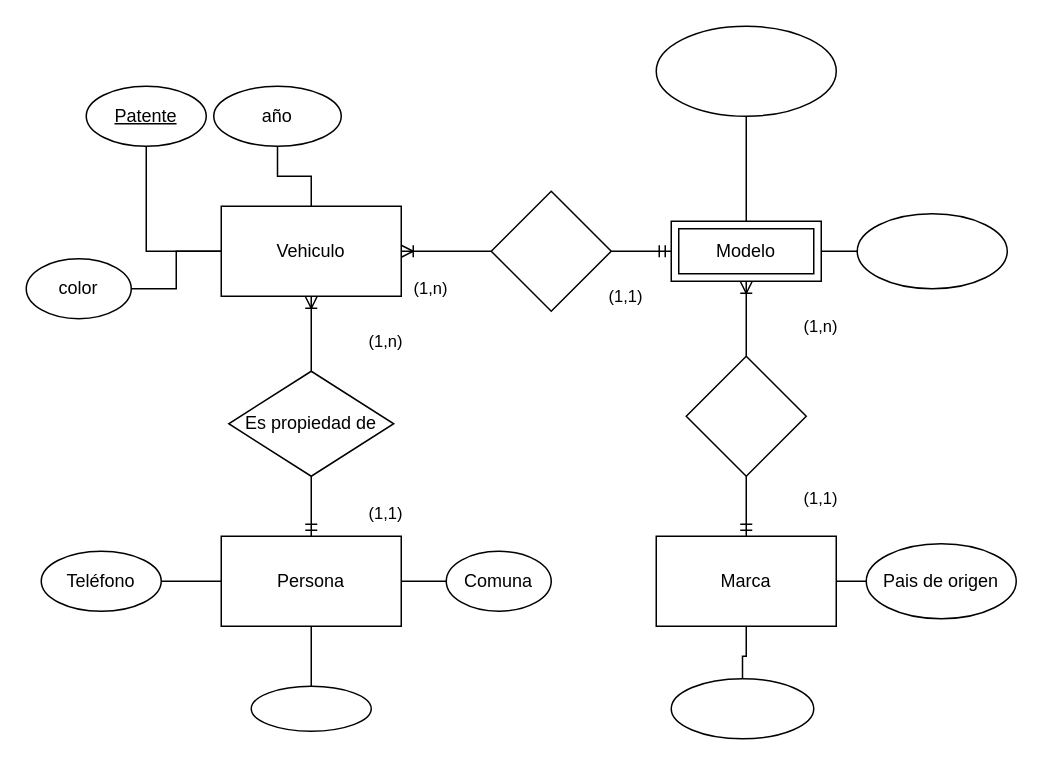
Some shapes in this 1043 by 765 pixel diagram are drawn without their labels. The shapes that lost their labels are listed below. From the top down, each one's centre as x and y in pixels, then its label:
At (x=745, y=70): "Año lanzamiento".
At (x=550, y=250): "Pertenece a".
At (x=931, y=250): "Nombre modelo".
At (x=745, y=415): "Asociado a".
At (x=310, y=708): "Rut".
At (x=742, y=708): "Nombre marca".
